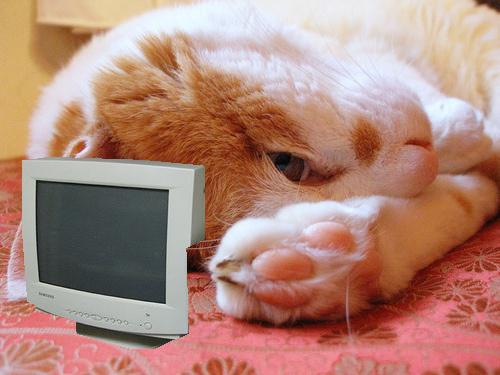tampered: (23, 158, 205, 349)
